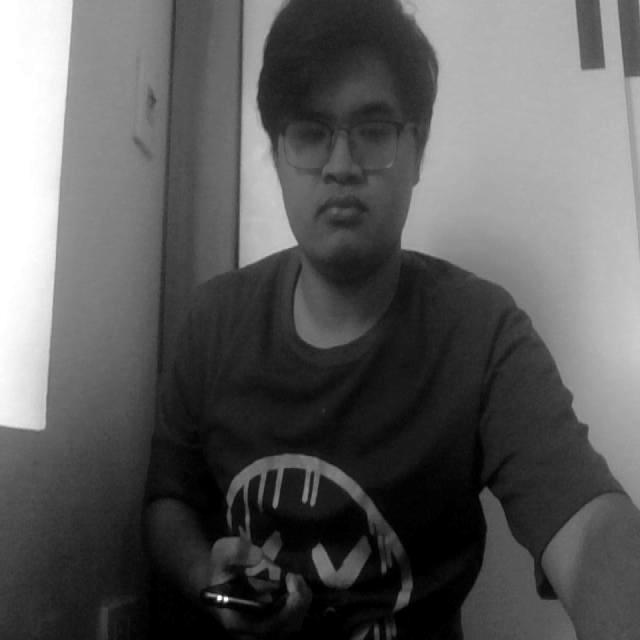phone: (196, 542, 303, 632)
